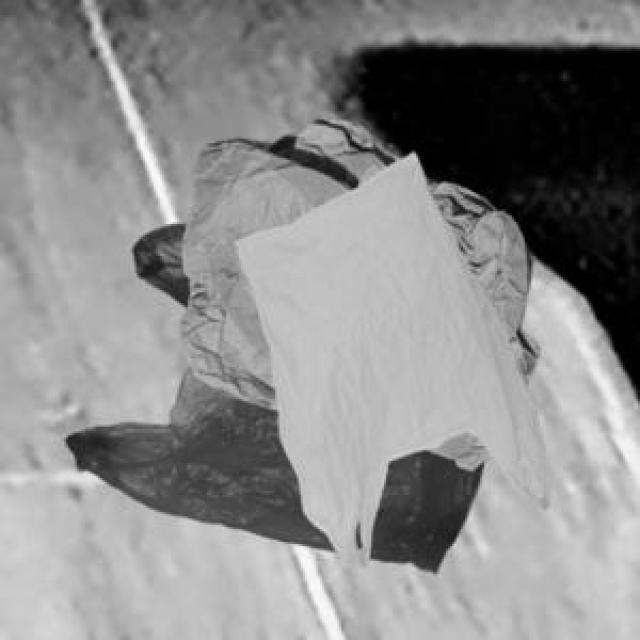paper: (177, 115, 536, 465)
